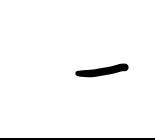minus: (77, 64, 126, 75)
